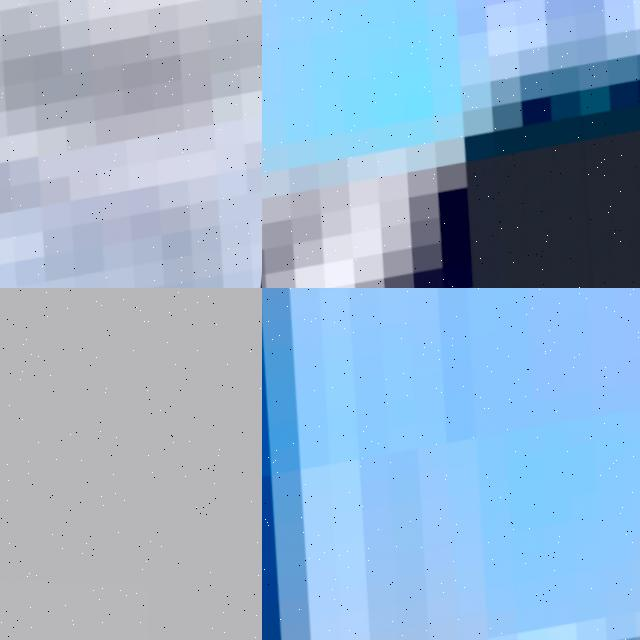0: (262, 288, 640, 640), (262, 0, 640, 288)
drone: (0, 0, 262, 288)
